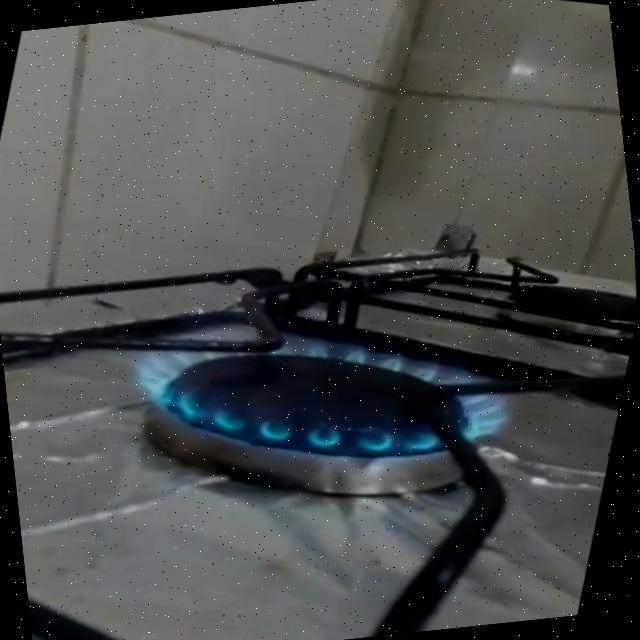fire: (103, 254, 548, 529)
